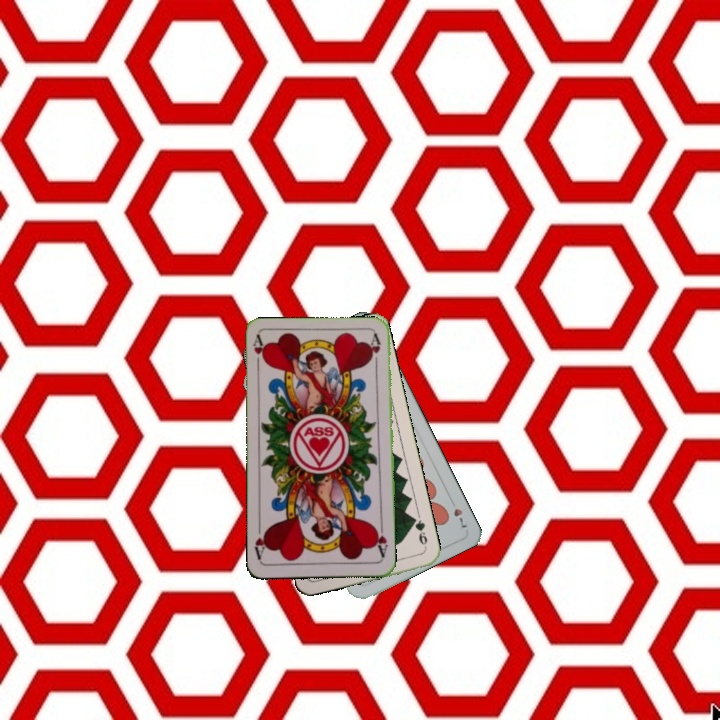G9: (408, 513, 430, 552)
H7: (446, 494, 470, 531)
HA: (371, 520, 391, 560), (249, 333, 268, 373)
